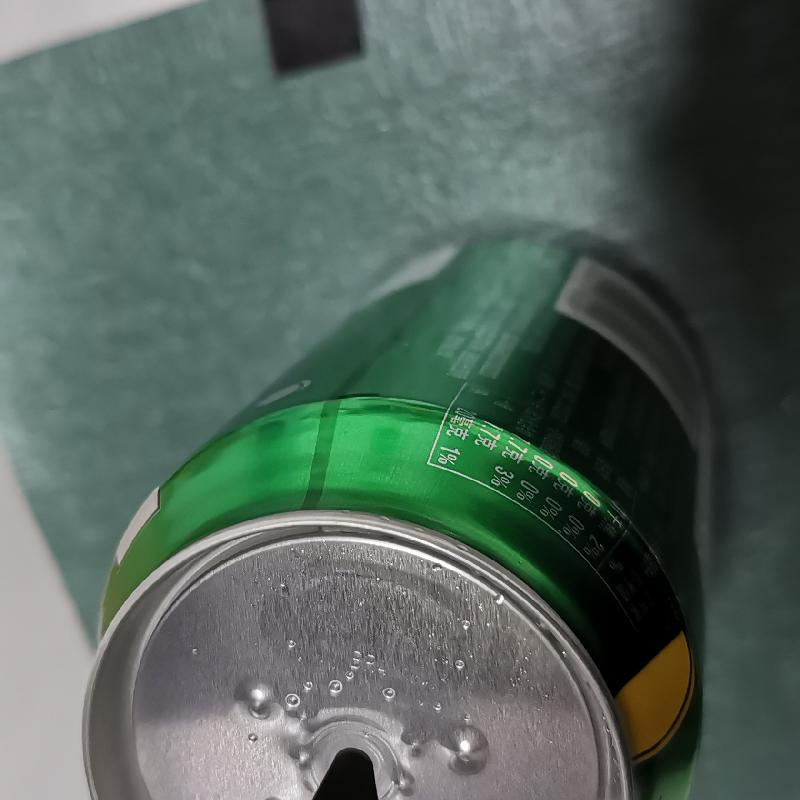cans: (80, 241, 799, 800)
